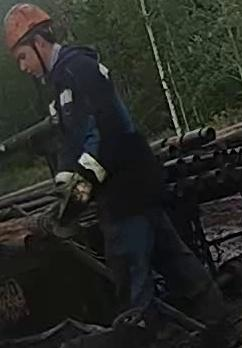gloves: (47, 170, 98, 226)
helmet: (3, 2, 53, 51)
vest: (45, 44, 165, 216)
